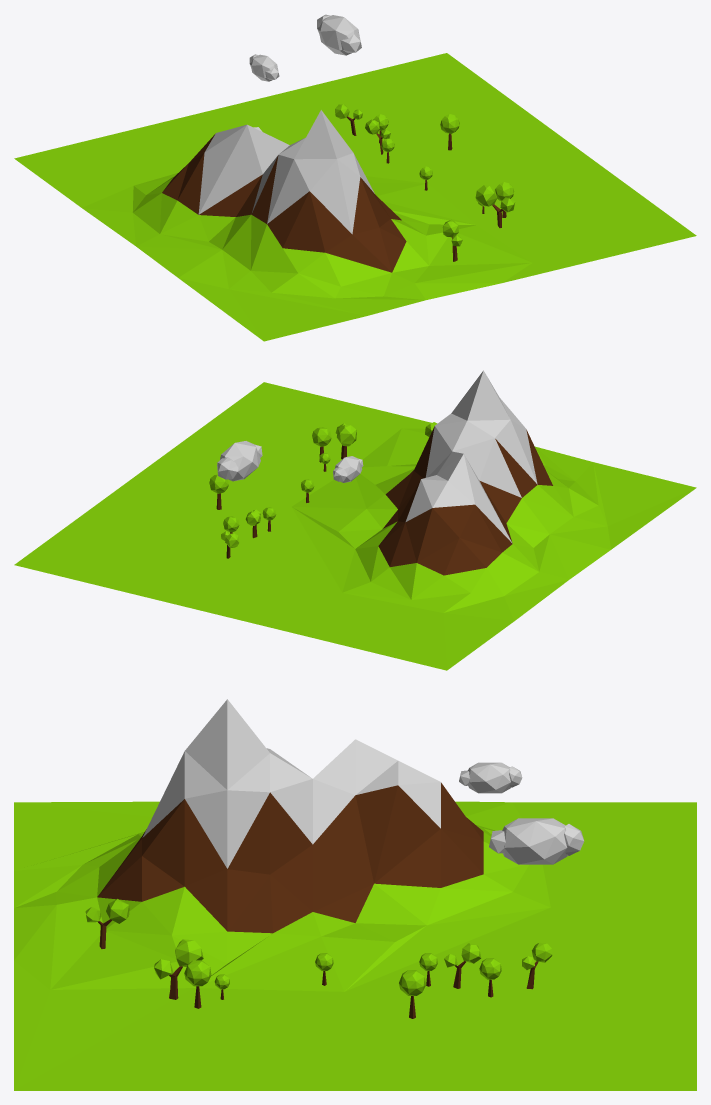
Rendered from LowPlotEnv.fbx.
3 views of the same model, one above another, from view 1: azimuth 30°, elevation 25°; view 2: azimuth 150°, elevation 25°; view 3: azimuth 270°, elevation 25° (orthographic). The views are drawn at different scales.
Visible parts, largest first — view 1: Ground, Cloud.1, BiTree.1, Cloud.2; view 2: Ground, Cloud.1, Cloud.2; view 3: Ground, Cloud.1, Cloud.2, BiTree.1, BiTree.2, Tree.1, Tree.2, BiTree.3, BiTree.4.
Boxes of the visible parts, x1,y1,x2,y2 form: Ground: (14,53,696,341); Cloud.1: (317,14,361,55); BiTree.1: (475,185,515,227); Cloud.2: (249,54,279,81); Ground: (14,370,696,670); Cloud.1: (217,441,262,481); Cloud.2: (333,456,363,482); Ground: (14,699,696,1090); Cloud.1: (489,818,584,864); Cloud.2: (459,762,522,793); BiTree.1: (154,939,203,999); BiTree.2: (85,899,129,948); Tree.1: (184,960,211,1008); Tree.2: (399,970,425,1018); BiTree.3: (444,943,481,988); BiTree.4: (522,942,552,989).
Size of the model in its own units: 1425 by 463 by 1425.
